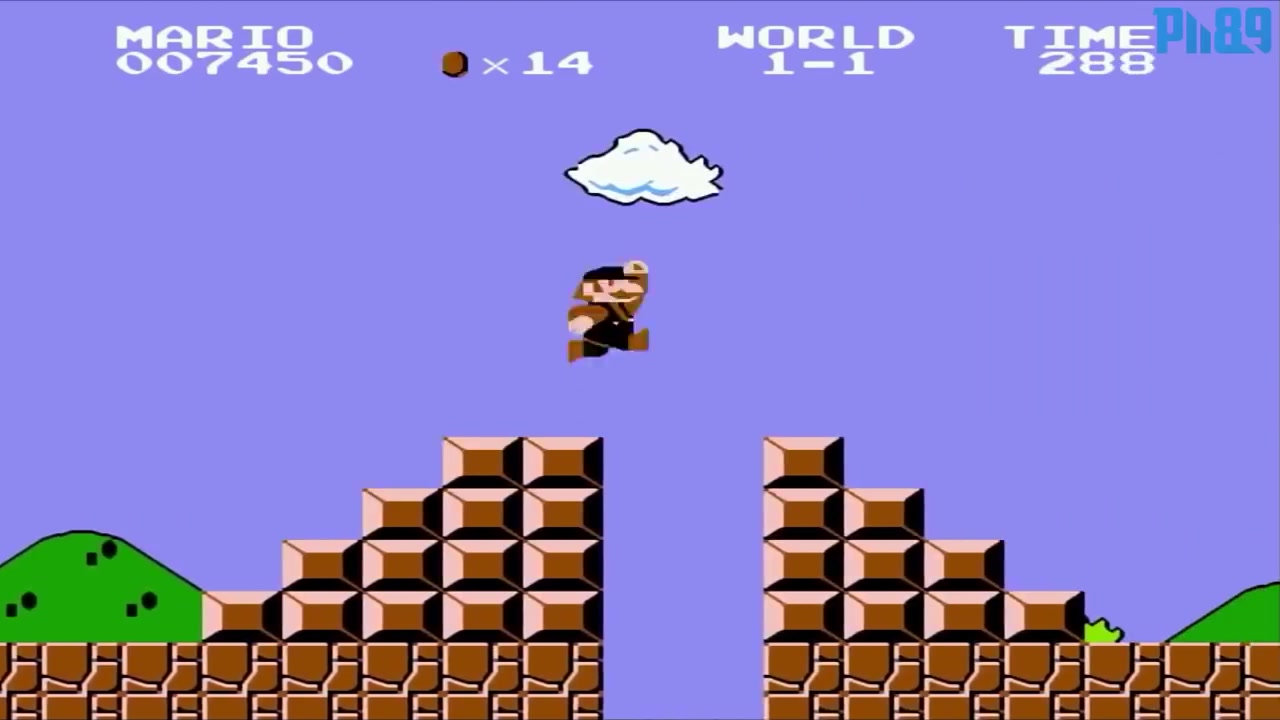mario: (561, 245, 658, 376)
